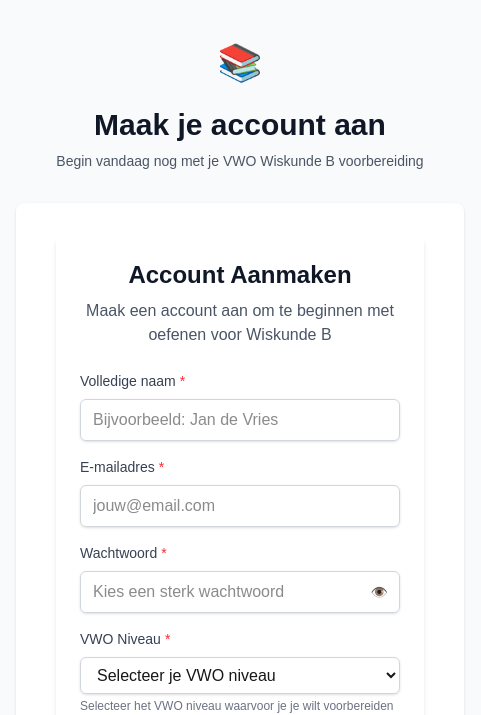
RegisterPage › shows error message on registration failure
Note: Fill out the form
Step 1. Type "Test User" into the field labelled "Volledige naam*" → coordinates (240, 420), box [80,399,400,441]
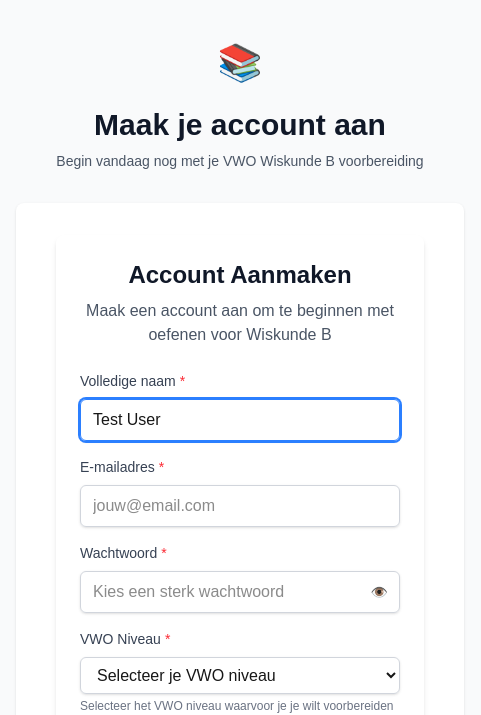
Step 2. Type "existing@example.com" into the field labelled "E-mailadres*" → coordinates (240, 506), box [80,485,400,527]
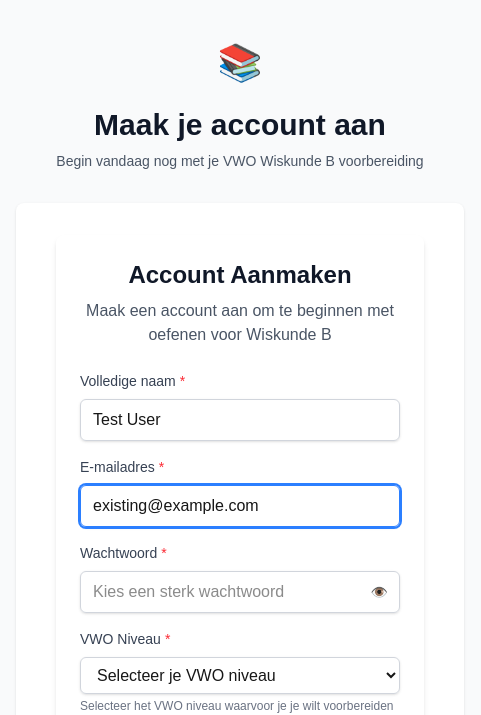
Step 3. Type "TestPass123" into the password field labelled "Wachtwoord*" → coordinates (240, 592), box [80,571,400,613]
(page scrolled)
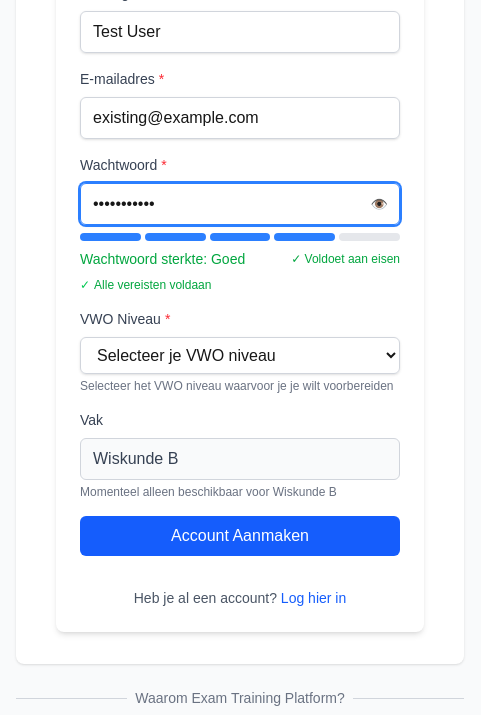
Step 4. Select "VWO 6" in the dropdown labelled "VWO Niveau*" → coordinates (240, 356), box [80,337,400,374]
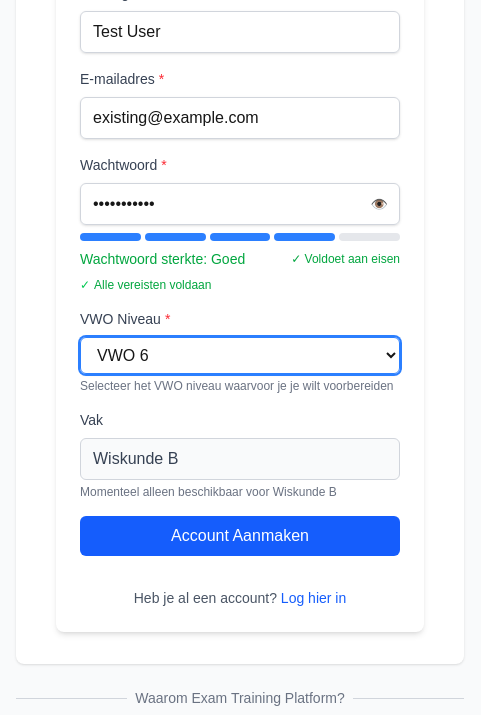
Note: Submit the form
Step 5. Click the button "Account Aanmaken" → coordinates (240, 536), box [80,516,400,556]
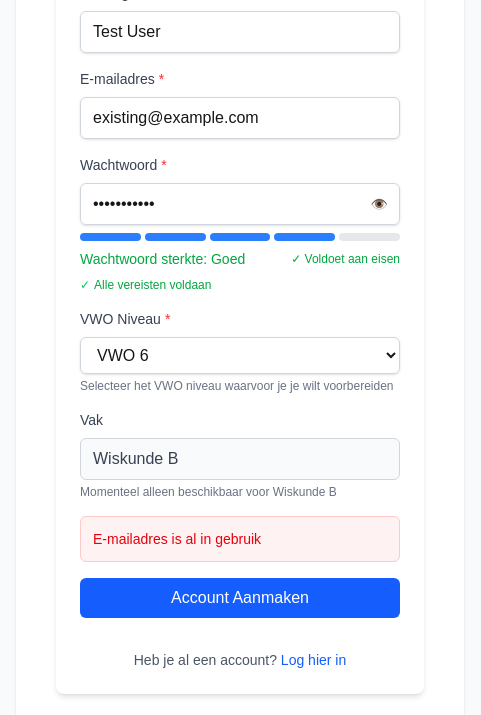
Check: the text "E-mailadres is al in gebruik" is shown, box [93,531,261,547]
